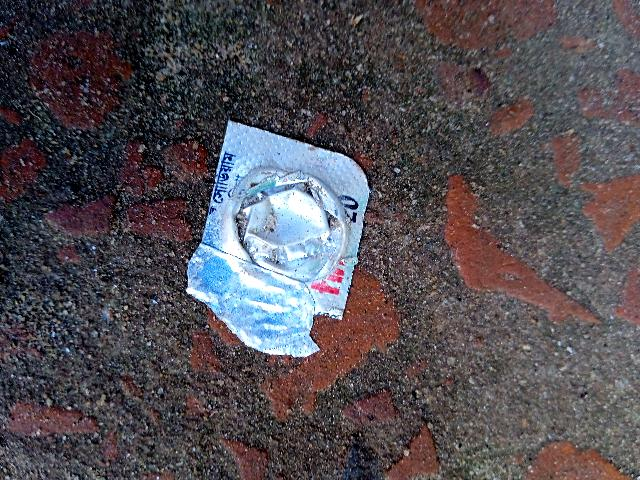medicine: (184, 112, 380, 331)
